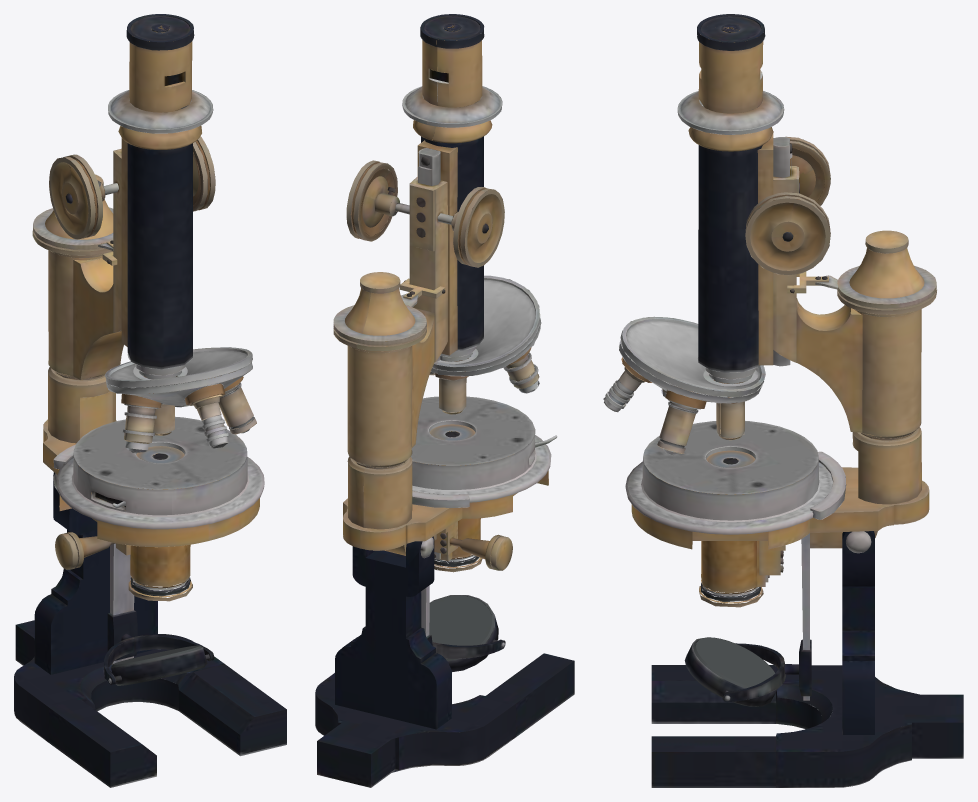
Rendered from vintage_microscope.glb.
3 views of the same model, side by side, from view 1: azimuth 30°, elevation 25°; view 2: azimuth 150°, elevation 25°; view 3: azimuth 270°, elevation 25° (orthographic). The views are drawn at different scales.
Parts seen in each view (by area): view 1: vintage_microscope_rack_mount_support, vintage_microscope_eye_piece, vintage_microscope_base, vintage_microscope_revolver, vintage_microscope_adjustment, vintage_microscope_mirror_arm, vintage_microscope_condenser, vintage_microscope_mirror_base; view 2: vintage_microscope_rack_mount_support, vintage_microscope_base, vintage_microscope_eye_piece, vintage_microscope_adjustment, vintage_microscope_mirror_base, vintage_microscope_revolver, vintage_microscope_condenser, vintage_microscope_mirror_arm; view 3: vintage_microscope_rack_mount_support, vintage_microscope_base, vintage_microscope_eye_piece, vintage_microscope_adjustment, vintage_microscope_revolver, vintage_microscope_condenser, vintage_microscope_mirror_base, vintage_microscope_mirror_arm.
Boxes of the visible parts, <box> form: vintage_microscope_rack_mount_support: <box>32,148,264,569</box>; vintage_microscope_eye_piece: <box>104,14,252,387</box>; vintage_microscope_base: <box>14,472,286,787</box>; vintage_microscope_revolver: <box>106,362,256,452</box>; vintage_microscope_adjustment: <box>49,136,215,239</box>; vintage_microscope_mirror_arm: <box>103,543,214,684</box>; vintage_microscope_condenser: <box>128,446,192,601</box>; vintage_microscope_mirror_base: <box>111,645,207,685</box>; vintage_microscope_rack_mount_support: <box>333,176,557,570</box>; vintage_microscope_base: <box>315,536,574,787</box>; vintage_microscope_eye_piece: <box>402,14,540,371</box>; vintage_microscope_adjustment: <box>346,160,504,267</box>; vintage_microscope_mirror_base: <box>429,595,498,671</box>; vintage_microscope_revolver: <box>429,318,541,414</box>; vintage_microscope_condenser: <box>429,424,482,572</box>; vintage_microscope_mirror_arm: <box>421,585,505,659</box>; vintage_microscope_rack_mount_support: <box>625,166,936,575</box>; vintage_microscope_base: <box>651,531,963,787</box>; vintage_microscope_eye_piece: <box>620,14,792,397</box>; vintage_microscope_adjustment: <box>745,136,830,275</box>; vintage_microscope_revolver: <box>603,340,763,455</box>; vintage_microscope_condenser: <box>699,450,769,607</box>; vintage_microscope_mirror_base: <box>684,637,777,706</box>; vintage_microscope_mirror_arm: <box>722,533,811,702</box>.
Bounding box in the file's own units: 0.1065 × 0.3996 × 0.1821.
Materials: 2 (2 with a texture image).
